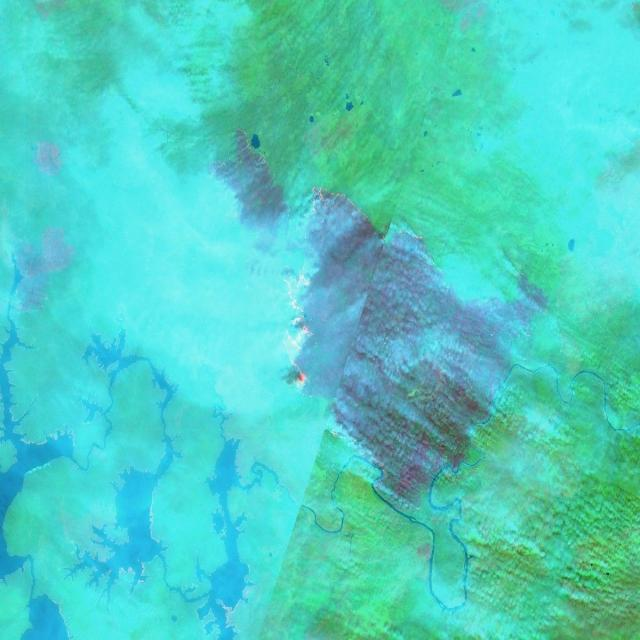fire: (207, 115, 566, 521)
